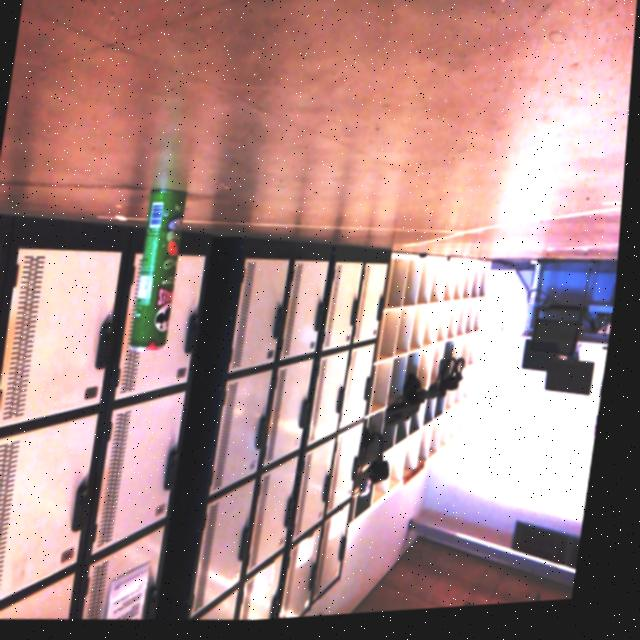greenpringles: (120, 180, 196, 364)
